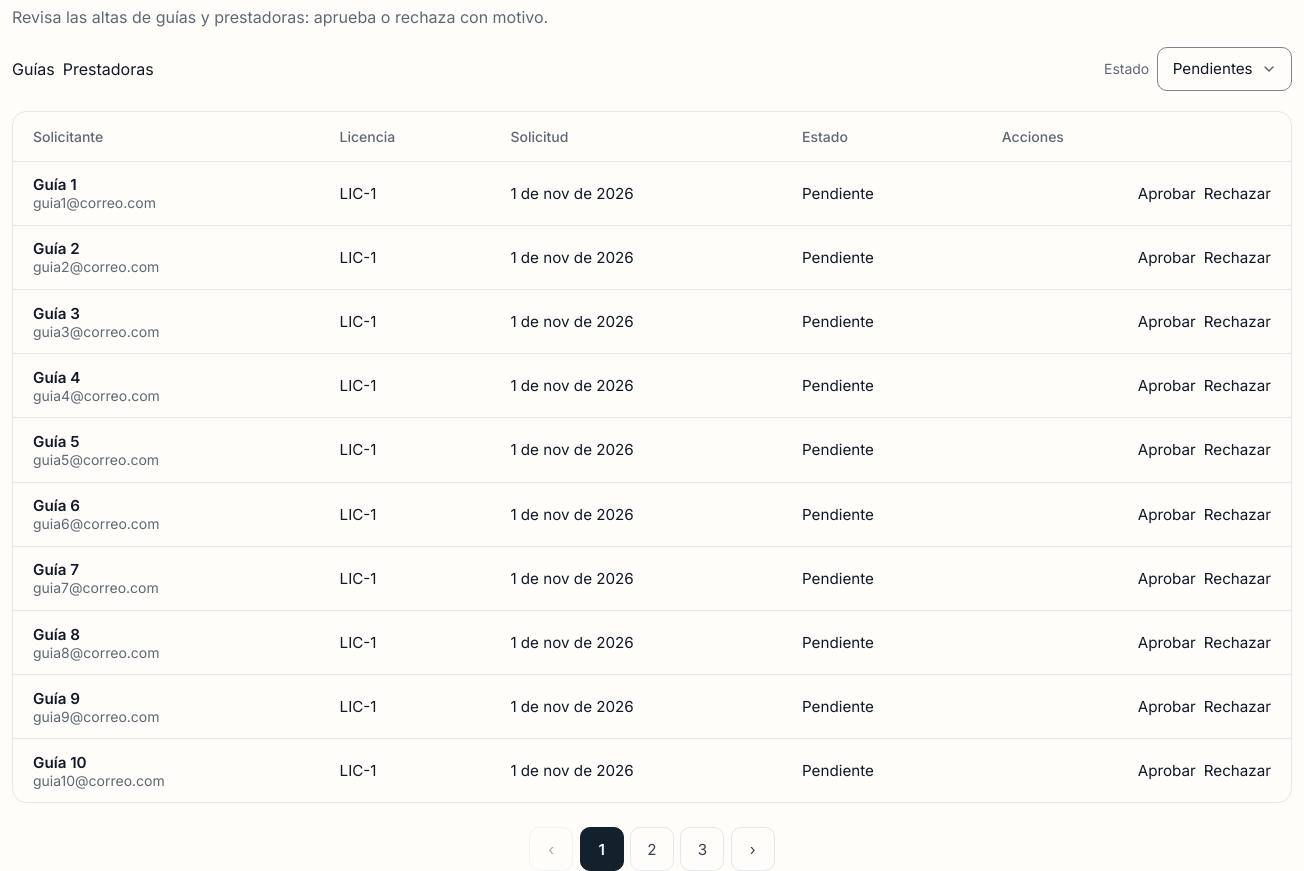
Test: RegistrationsQueuePage › se recoloca si la página pedida ya no existe (la vació otra gestora)
Later steps or results of the test are not shown.
(page scrolled)
Expected: the text "Guía 1" is shown, [33,175,77,194]
Step 1. Click the button named "Página siguiente" → (753, 850), box [731,828,775,870]
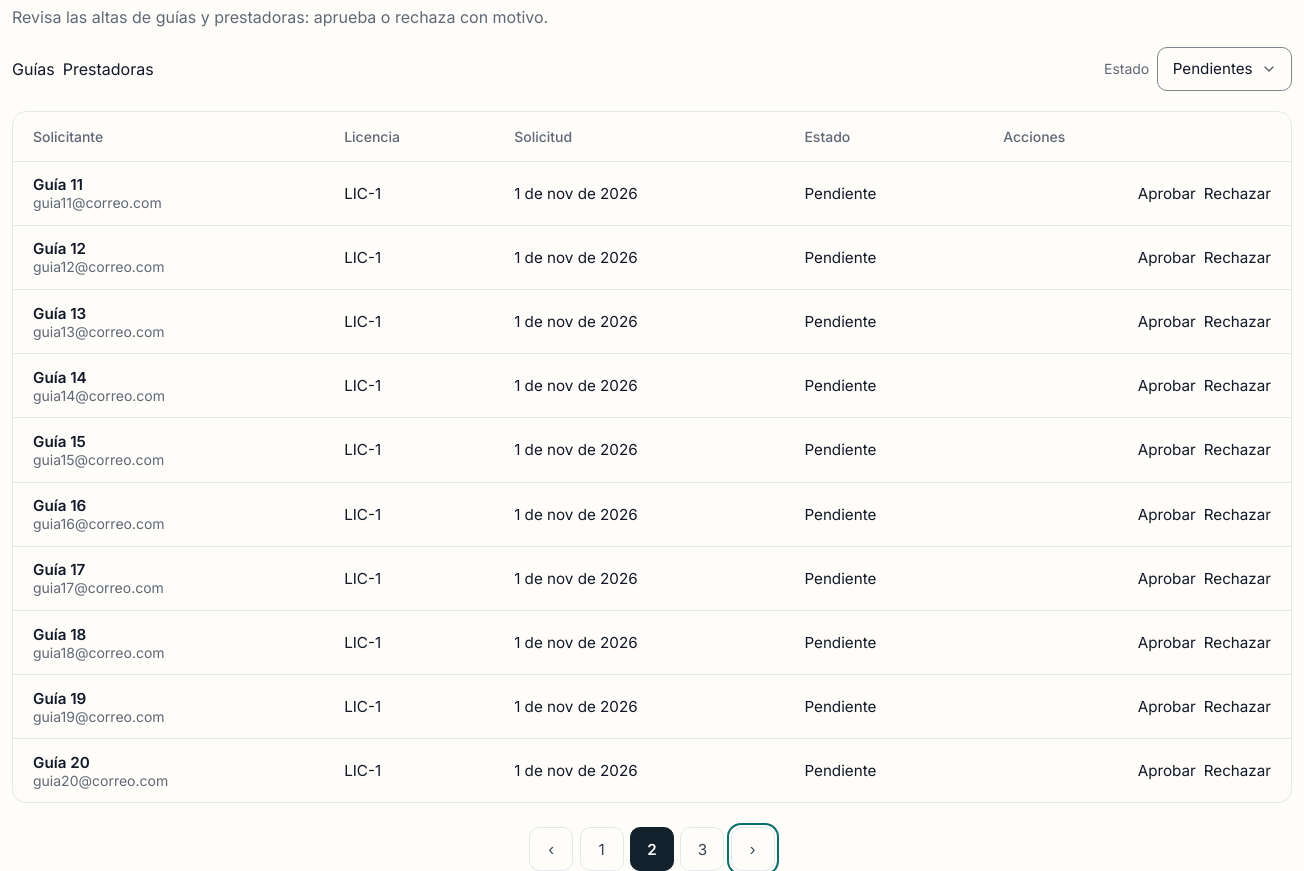
Expected: the text "Guía 11" is shown, [33,175,83,194]
